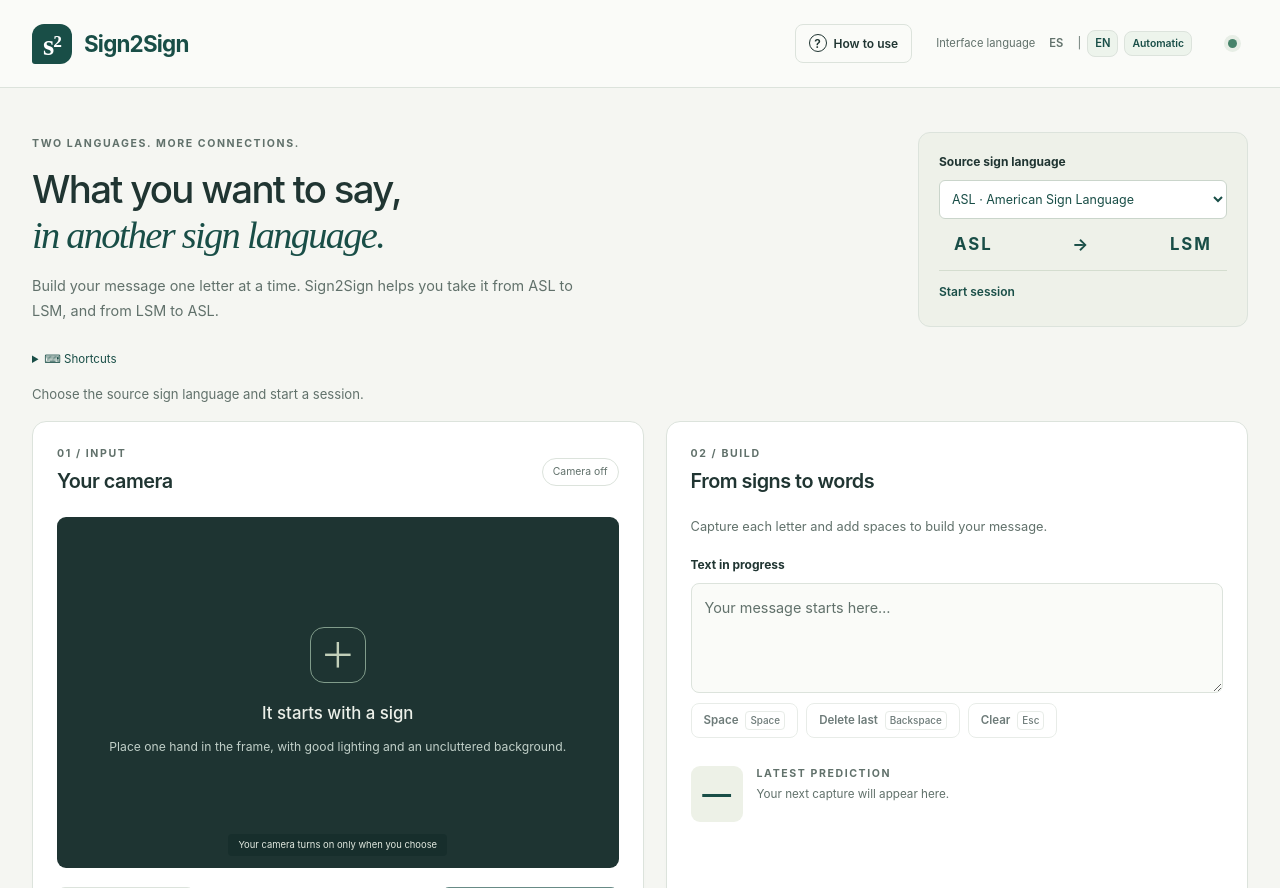
Scenario: SC-01 session integration › renders the initial interface with accessible controls and backend health
The image size is (1280, 888).
Click the button "ES".
click(1056, 44)  # box [1041,30,1071,57]
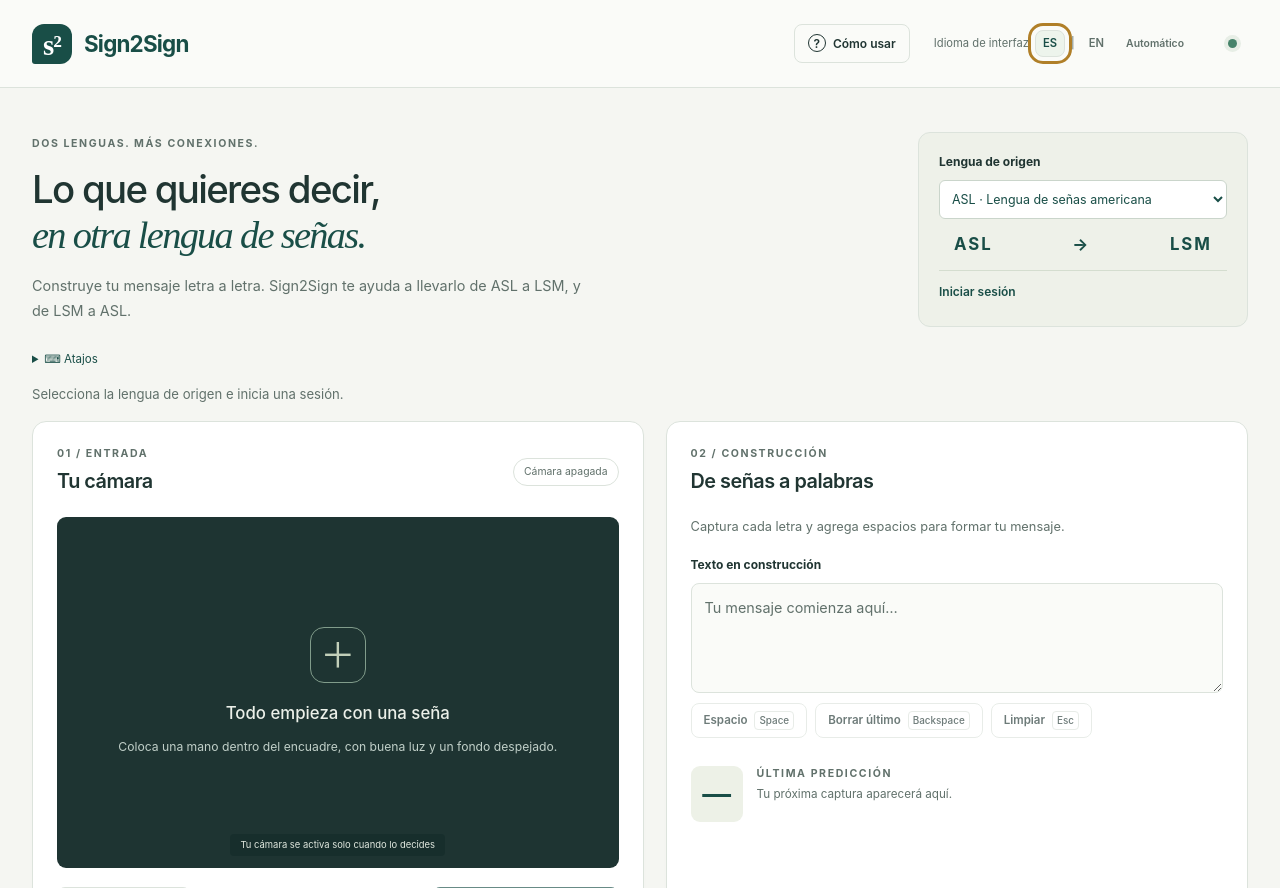
Expected: the button named "Backend conectado" is shown, [1216,28,1248,60]
Now the heading "Lo que quieres decir,en otra lengua de señas." is shown, box [32,166,380,256]
Now the dropdown labelled "Lengua de origen" shows "ASL · Lengua de señas americana", box [939,180,1227,219]
